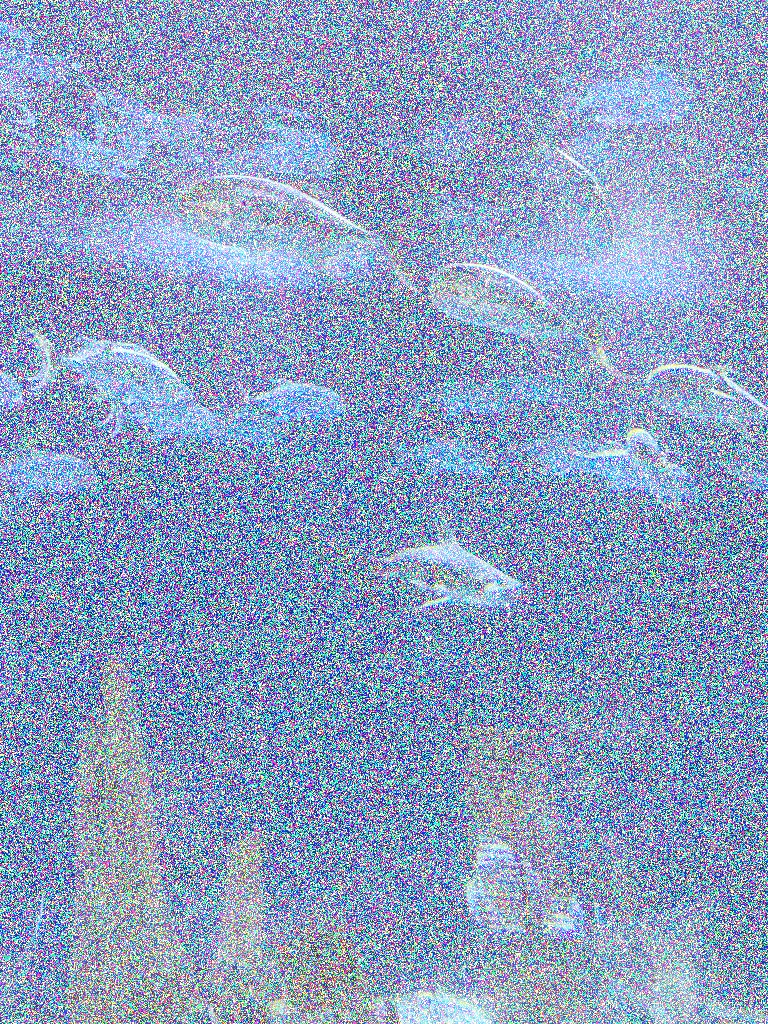fish: (176, 174, 420, 294), (429, 262, 619, 374), (512, 80, 616, 250), (21, 326, 183, 404), (646, 365, 768, 441), (228, 374, 346, 420), (0, 447, 97, 500), (100, 404, 222, 444), (405, 376, 513, 420), (503, 432, 616, 474), (384, 436, 492, 478), (600, 454, 700, 498), (628, 426, 680, 510), (695, 441, 767, 493), (102, 383, 194, 423), (194, 402, 282, 442), (0, 370, 24, 408)
shark: (286, 504, 528, 612), (368, 618, 538, 684)
